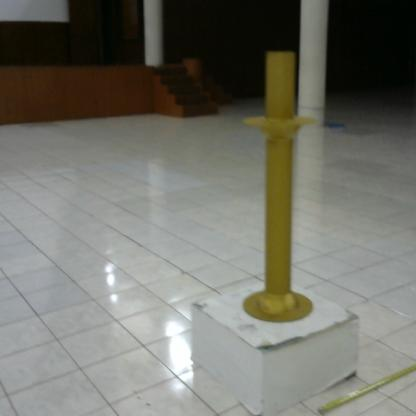pole: (238, 44, 331, 327)
